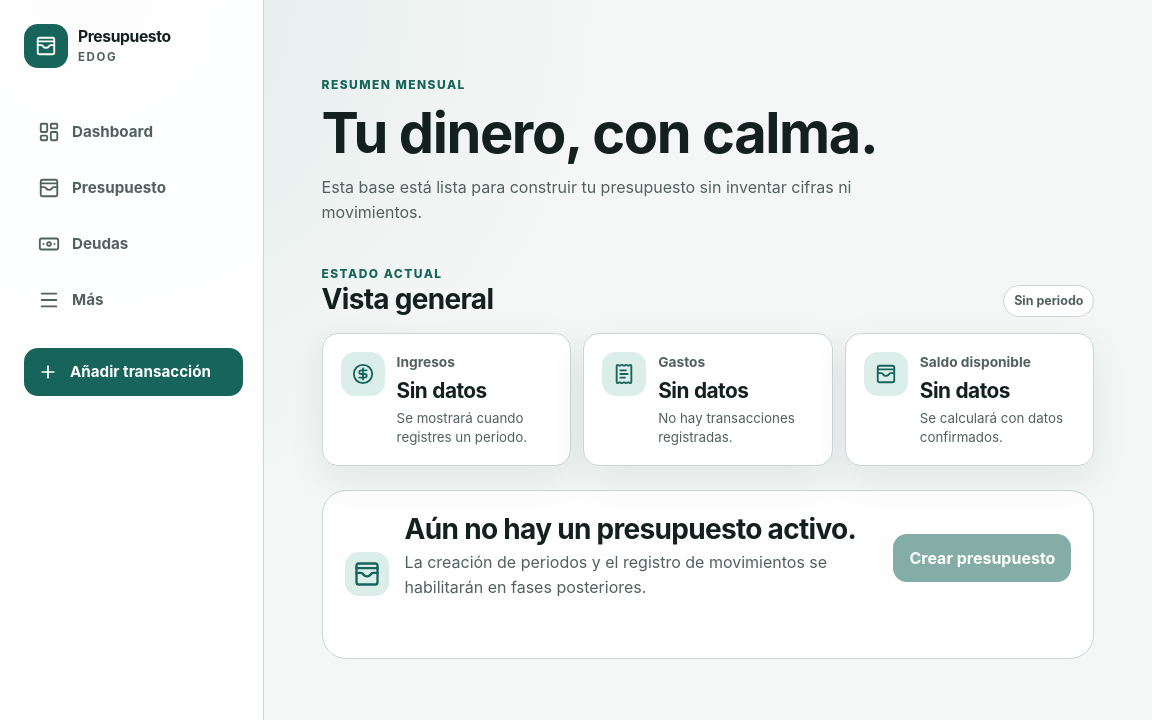
it: AppShell › opens and closes the quick transaction sheet
The image size is (1152, 720).
Click the button "Añadir transacción". click: click(134, 372)
box: [24, 348, 243, 396]
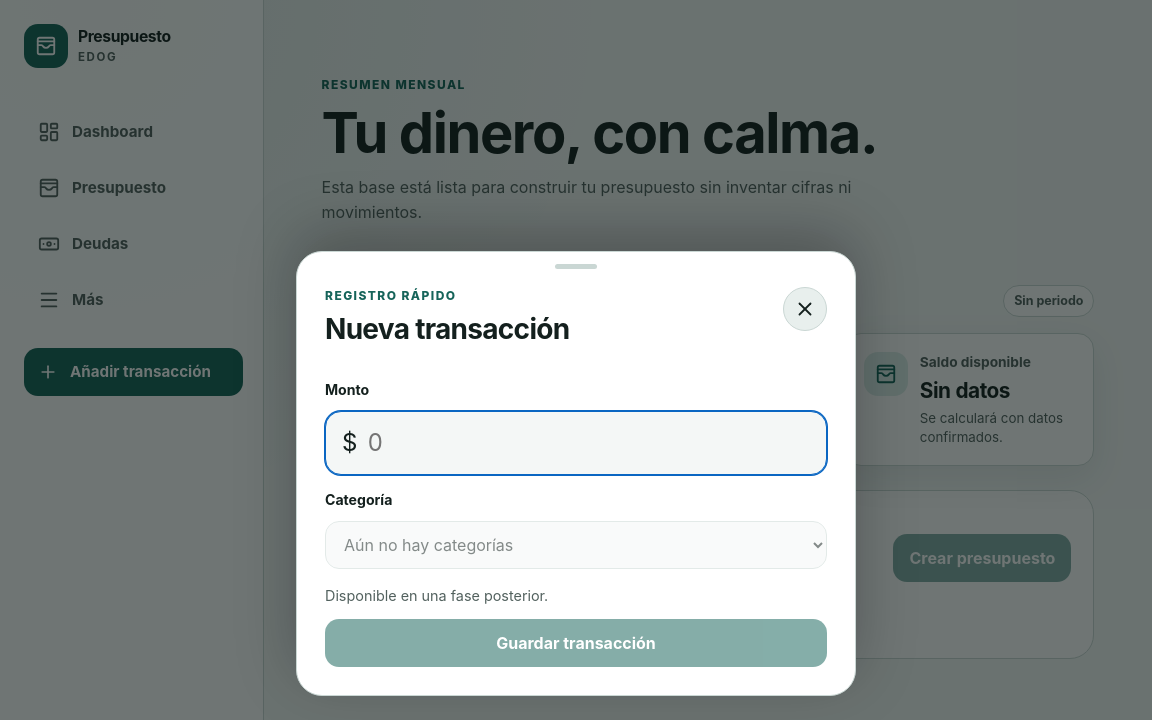
Now the dialog "Nueva transacción" is shown, box [296, 251, 856, 696]
Now the button "Guardar transacción" is disabled, box [325, 619, 827, 667]
Now the text "Disponible en una fase posterior." is shown, box [325, 587, 548, 604]
Click the button named "Cerrar". click: click(805, 309)
box: [783, 287, 827, 331]
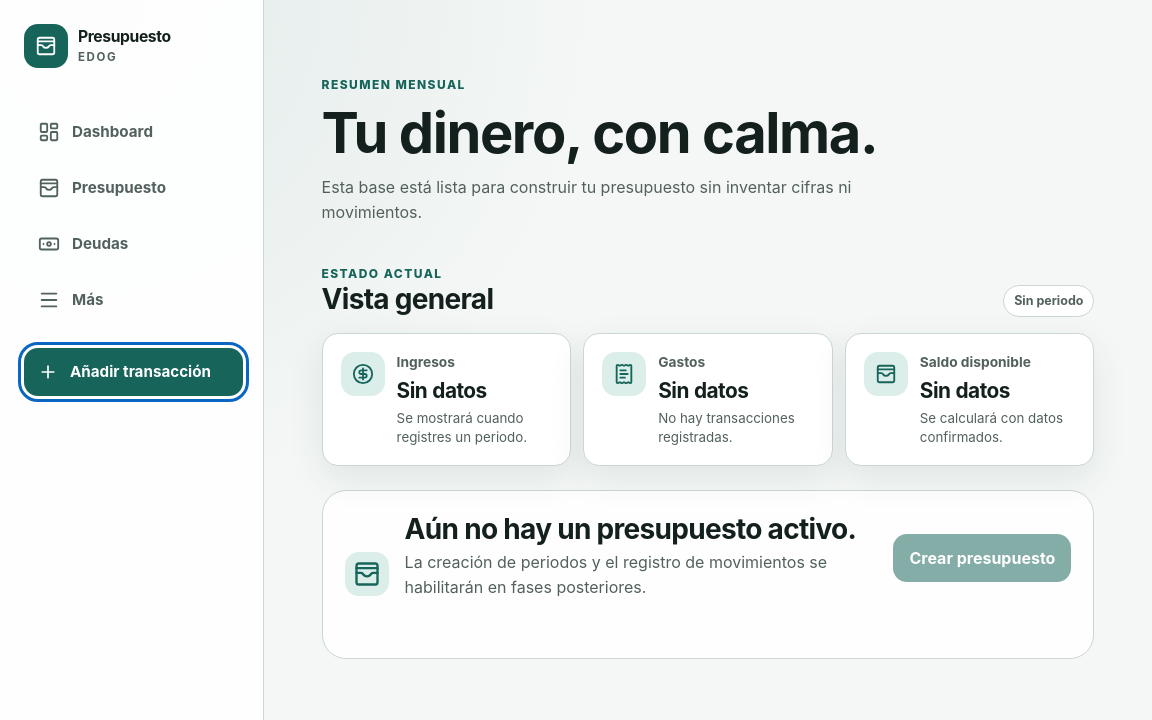
Now the heading "Nueva transacción" is gone
